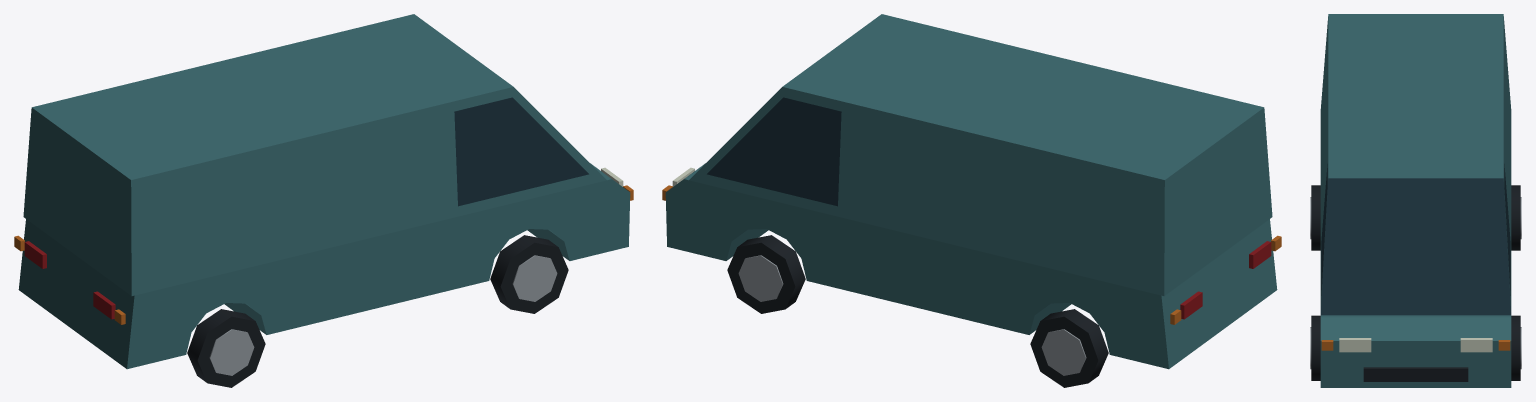
The model's file is van-far.glb.
The picture shows the model from 3 angles, left to right: view 1: azimuth 30°, elevation 25°; view 2: azimuth 150°, elevation 25°; view 3: azimuth 270°, elevation 25°; orthographic projection. The views are drawn at different scales.
Visible parts, largest first — view 1: distant_surface; view 2: distant_surface; view 3: distant_surface.
Part boxes in pixels (<box>): distant_surface: <box>14,14,633,387</box>; distant_surface: <box>662,14,1281,387</box>; distant_surface: <box>1310,14,1521,387</box>.
Bounding box in the file's own units: 5.41 × 2.25 × 2.19.
